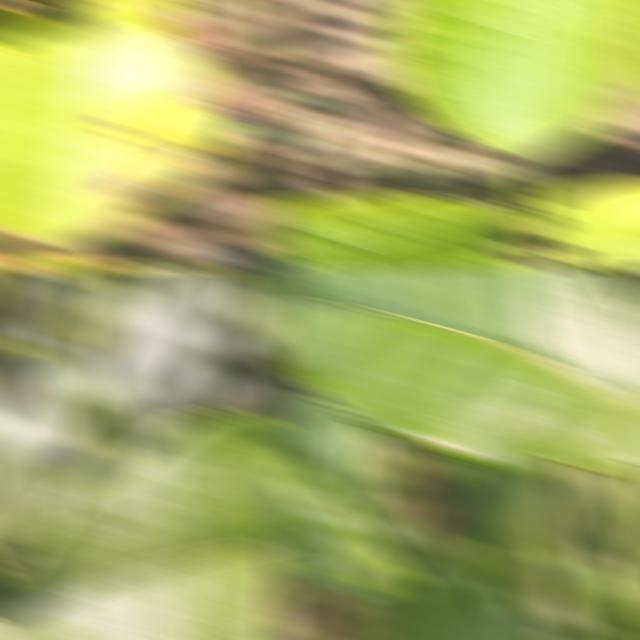Leaf: (272, 266, 640, 477), (0, 410, 290, 640), (0, 0, 244, 255), (383, 0, 640, 161), (272, 394, 423, 598), (93, 266, 238, 436), (0, 339, 103, 550), (435, 460, 570, 617), (272, 193, 521, 270), (373, 562, 543, 640), (536, 547, 640, 640), (565, 468, 640, 588), (528, 179, 640, 249), (445, 539, 521, 585), (314, 614, 368, 640)
